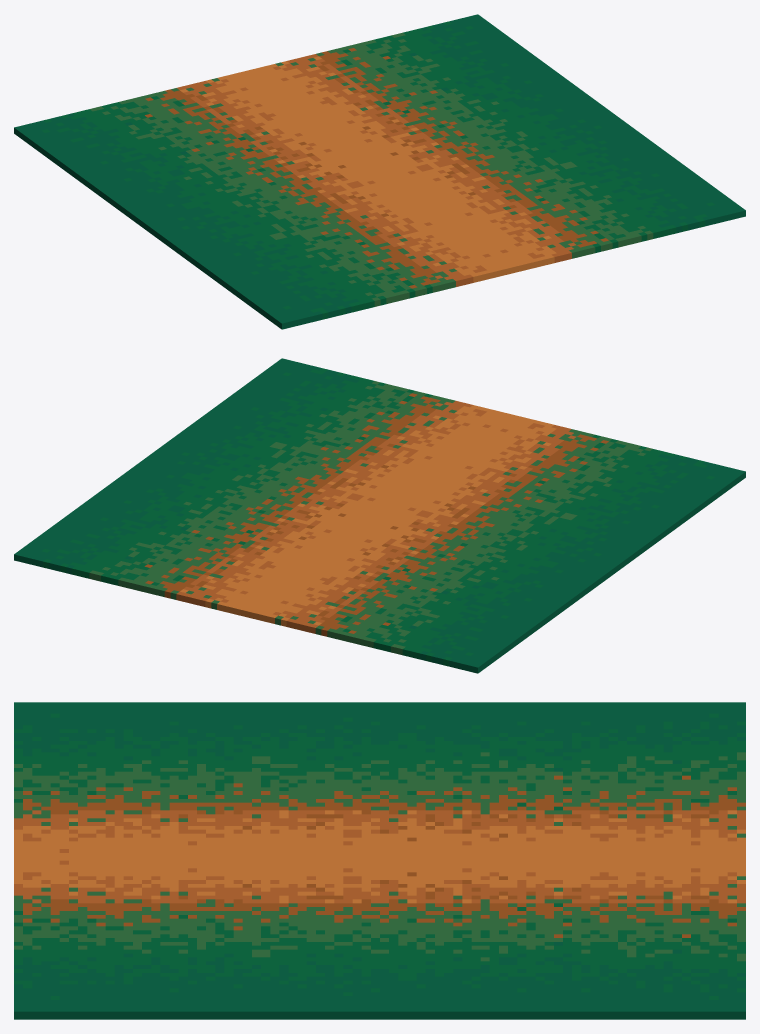
The model's file is SummerGround.obj.
The picture shows the model from 3 angles, top to bottom: view 1: azimuth 30°, elevation 25°; view 2: azimuth 150°, elevation 25°; view 3: azimuth 270°, elevation 25°; orthographic projection. The views are drawn at different scales.
Visible parts, largest first — view 1: SummerGround; view 2: SummerGround; view 3: SummerGround.
Part boxes in pixels (bbox=[...]): SummerGround: bbox=[14, 14, 745, 329]; SummerGround: bbox=[14, 358, 745, 673]; SummerGround: bbox=[14, 702, 745, 1019].
Bounding box in the file's own units: 80 × 1 × 80.
Materials: 1 (1 with a texture image).
